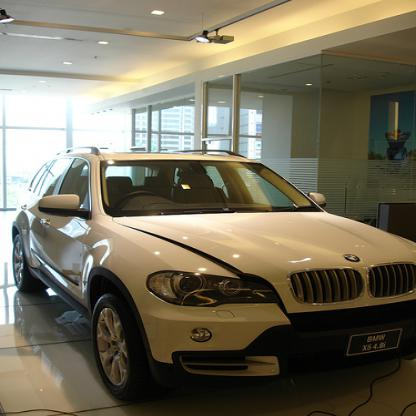car: (10, 146, 415, 398)
